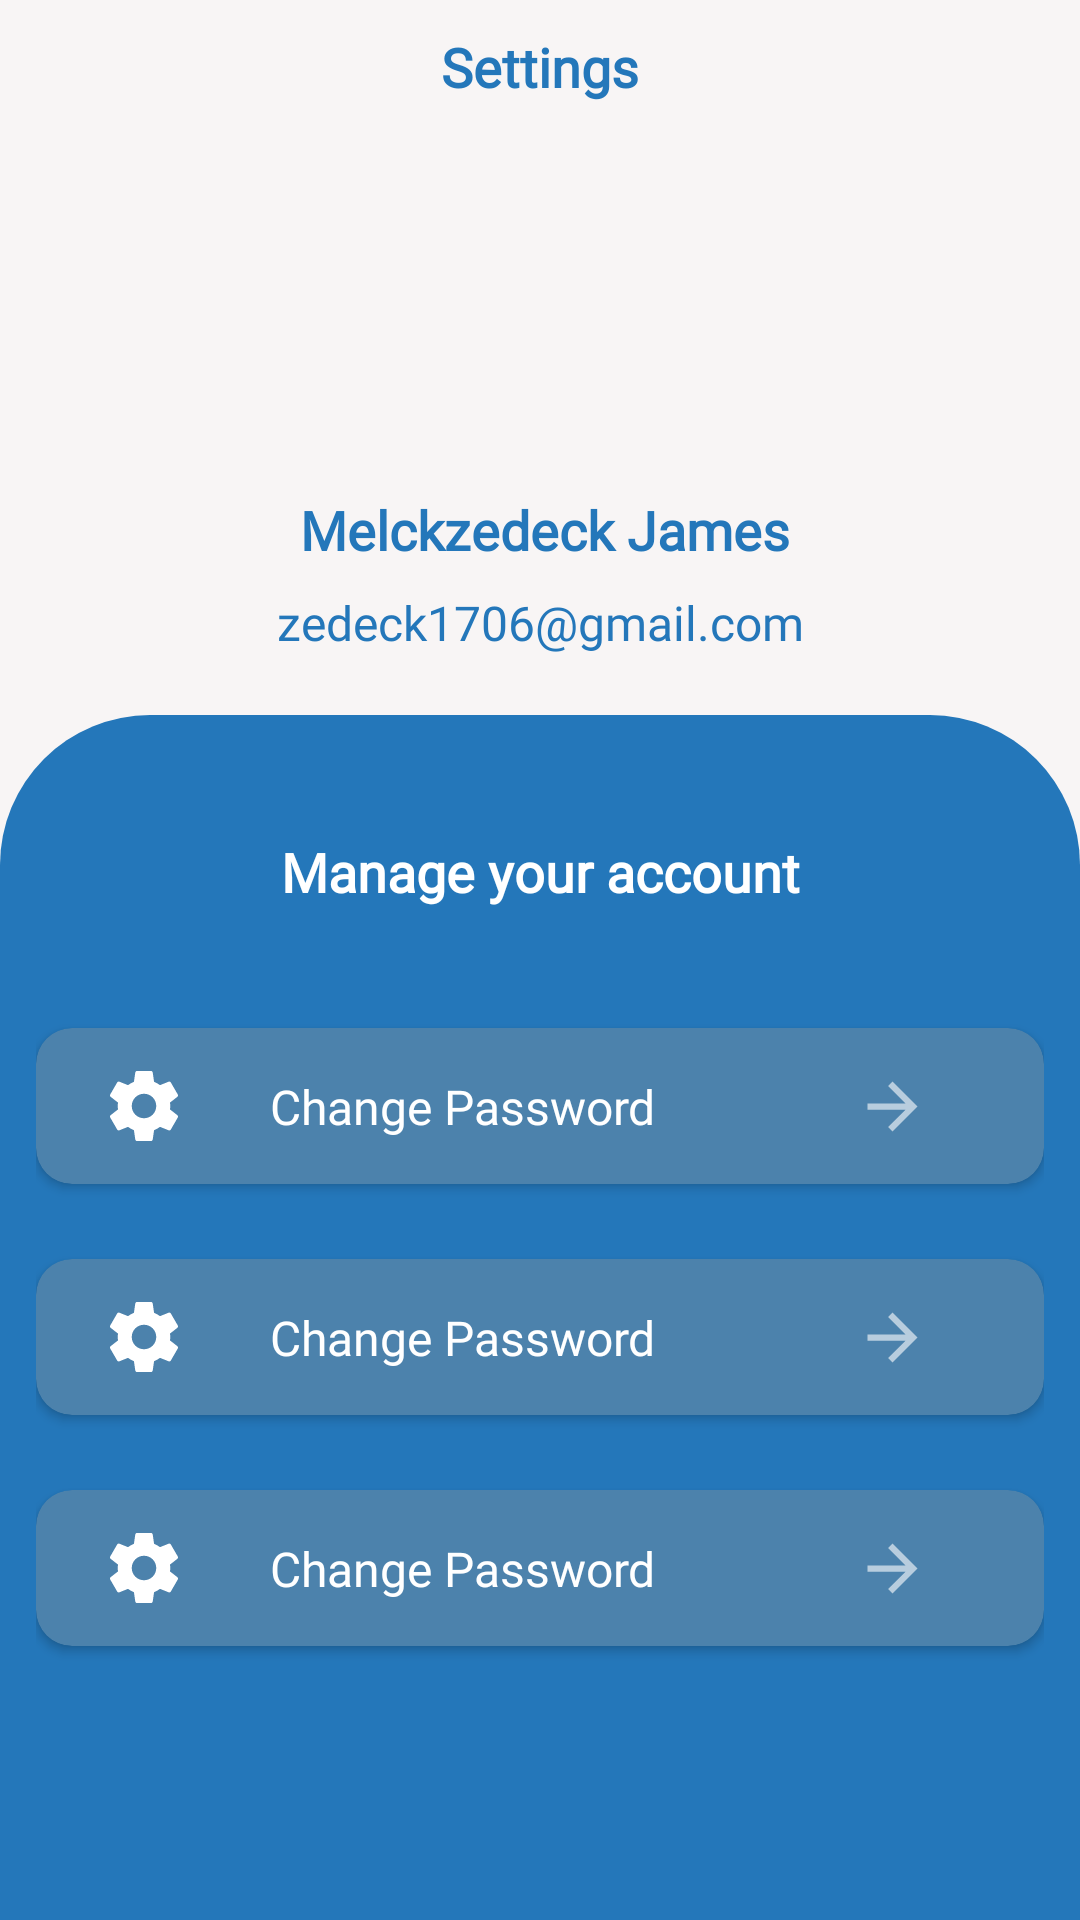

Icon bounding boxes for this 1080*1920 phone screenshot, format (x1, y1, x2, y2):
arrow forward: (867, 1081, 918, 1132), (867, 1312, 918, 1363), (867, 1543, 918, 1594)
settings: (110, 1071, 178, 1141), (110, 1302, 178, 1372), (110, 1533, 178, 1603)
